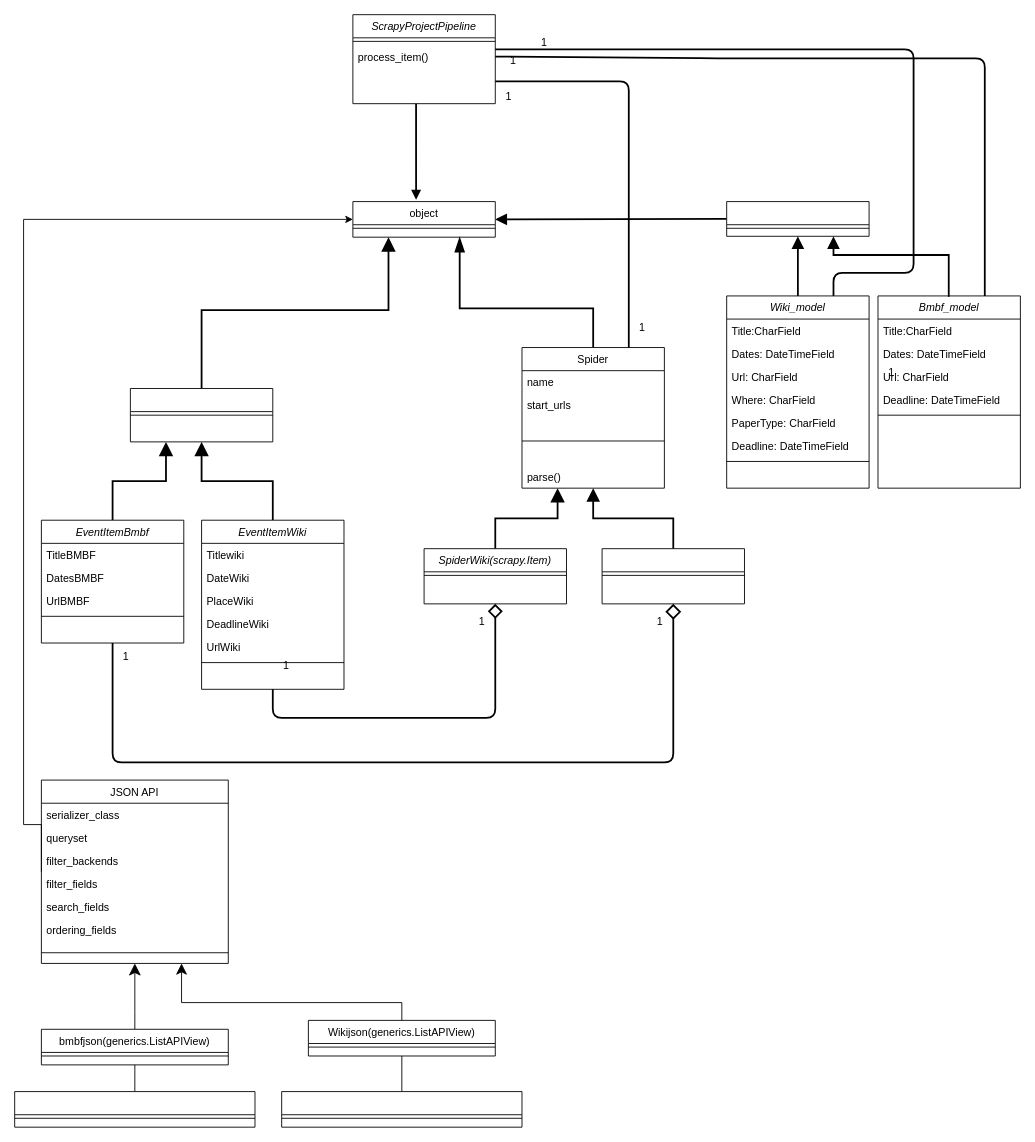
This 1035x1142 diagram has some shape labels left out. Here are the shapes that lost their labels. From the top down, the centre of each, then its label:
At point 797,218: "Model".
At point 201,415: "scrapy.Item".
At point 672,576: "SpiderBmbf(scrapy.Item)".
At point 134,1109: "BmbfSerializer(serializers.ModelSerializer)".
At point 401,1109: "WikiSerializer(serializers.ModelSerializer)".
